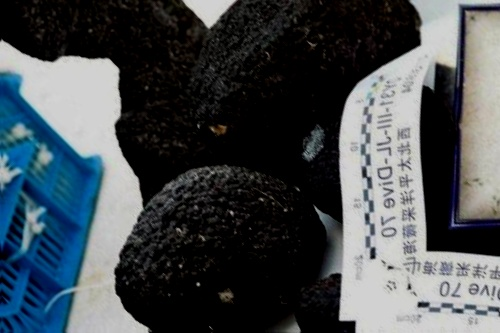halobolite: (67, 120, 337, 333), (1, 1, 217, 148), (216, 1, 413, 152), (279, 274, 358, 333)
